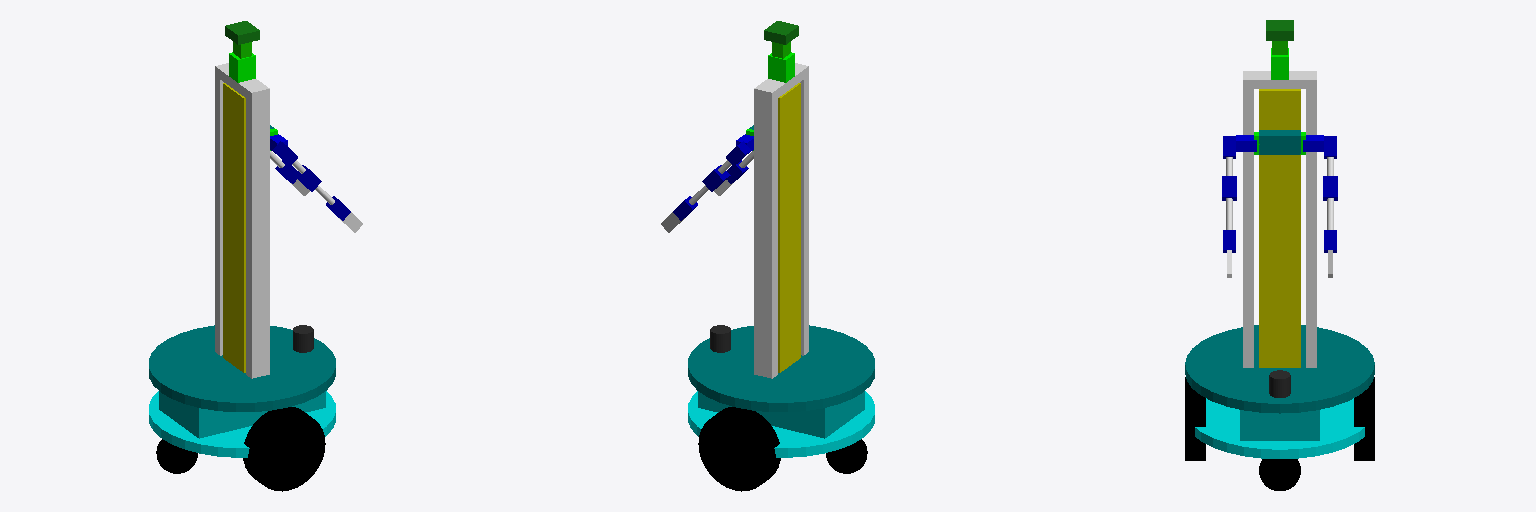
The robot description file, URDF, robot "morelab_robot_09":
<?xml version="1.0"?>

<robot name="morelab_robot_09">
<!-- * * * Link Definitions * * * -->

<link name="base_footprint" />
<!--link name="odom" /-->

<link name="base_link">
	<visual>
		<origin xyz="0 0 0.0125" rpy="0 0 0"/>
		<geometry>
			<cylinder radius="0.225" length="0.025"/>
		</geometry>
		<material name="Cyan1">
			<color rgba="0 0.9 0.9 1.0"/>
		</material>
	</visual>
</link>

<link name="front_wheel">
	<visual>
		<origin rpy="1.57075 1.57075 0" xyz="0.18 0 -0.05"/>
		<geometry>
			<sphere radius="0.05"/>
		</geometry>
		
		<material name="black">
			<color rgba="0 0 0 1"/>
		</material>
	</visual>
</link>

<link name="left_wheel">
	<visual>
		<origin rpy="1.57075 1.57075 0" xyz="0 0.2 0"/>
		<geometry>
			<cylinder length="0.05" radius="0.1"/>
		</geometry>
		
		<material name="black"/>
	</visual>
</link>

<link name="right_wheel">
	<visual>
		<origin rpy="1.57075 1.57075 0" xyz="0 -0.2 0"/>		
		<geometry>
			<cylinder length="0.05" radius="0.1"/>
		</geometry>
		
		<material name="black"/>
	</visual>
</link>

<link name="back_wheel">
	<visual>
		<origin rpy="1.57075 1.57075 0" xyz="-0.18 0 -0.05"/>
		<geometry>
			<sphere radius="0.05"/>
		</geometry>
		
		<material name="black"/>
	</visual>
</link>

<link name="cpu_link"><visual>
	<origin xyz="0 0 0.0475" rpy="0 0 0"/>
		<geometry>
			<box size="0.35 0.19 0.095"/>
		</geometry>
		<material name="Cyan2">
			<color rgba="0 0.7 0.7 1.0"/>
		</material>
	</visual>
</link>


<link name="upper_base_link">
	<visual>
		<origin xyz="0 0 0.0125" rpy="0 0 0"/>
		<geometry>
			<cylinder radius="0.225" length="0.025"/>
		</geometry>
		<material name="Cyan3">
			<color rgba="0 0.5 0.5 1.0"/>
		</material>
	</visual>
</link>

<!-- link name="base_imu"/ -->

<link name="base_imu">
  <inertial>
      <mass value="0.0001" />
      <origin xyz="0 0 0" />
      <inertia ixx="0.0001" ixy="0.0" ixz="0.0"
               iyy="0.0001" iyz="0.0" 
               izz="0.0001" />
  </inertial>
</link>

<link name="base_laser">
	<visual>
		<origin xyz="0 0 0.025" rpy="0 0 0"/>
		<geometry>
			<cylinder radius="0.025" length="0.05"/>
		</geometry>
		<material name="Black1">
			<color rgba="0.2 0.2 0.2 1.0"/>
		</material>
	</visual>
</link>


<link name="laser">
	
</link>


<link name="torso_link">
	<visual>
		<origin xyz="0 0 0.3625" rpy="0 0 0"/>
		<geometry>
			<box size="0.05 0.1 0.725"/>
		</geometry>
		<material name="Yellow2">
			<color rgba="0.8 0.8 0 1.0"/>
		</material>
	</visual>
</link>

<link name="top_torso_link">
	<visual>
		<origin xyz="0 0 -0.0125" rpy="0 0 0"/>
		<geometry>
			<box size="0.05 0.125 0.025"/>
		</geometry>
		<material name="Grey1">
			<color rgba="0.9 0.9 0.9 1.0"/>
		</material>
	</visual>
</link>

<link name="right_torso_link">
	<visual>
		<origin xyz="0 0 0.3775" rpy="0 0 0"/>
		<geometry>
			<box size="0.05 0.025 0.755"/>
		</geometry>
		<material name="Grey1">
			<color rgba="0.9 0.9 0.9 1.0"/>
		</material>
	</visual>
</link>

<link name="left_torso_link">
	<visual>
		<origin xyz="0 0 0.3775" rpy="0 0 0"/>
		<geometry>
			<box size="0.05 0.025 0.755"/>
		</geometry>
		<material name="Grey1">
			<color rgba="0.9 0.9 0.9 1.0"/>
		</material>
	</visual>
</link>


<link name="head_pan_link">
	<visual>
		<origin xyz="0 0 0.03" rpy="0 0 0"/>
		<geometry>
			<box size="0.05 0.045 0.06"/>
		</geometry>
		<material name="Green1">
			<color rgba="0 1 0 1.0"/>
		</material>
	</visual>
</link>

<link name="head_tilt_link">
	<visual>
		<origin xyz="0 0 0.0225" rpy="0 0 0"/>
		<geometry>
			<box size="0.03 0.038 0.045"/>
		</geometry>
		<material name="Green2">
			<color rgba="0.1 0.8 0 1.0"/>
		</material>
	</visual>
</link>

<link name="neck_link">
	<visual>
		<origin xyz="0 0 0.0125" rpy="0 0 0"/>
		<geometry>
			<box size="0.06 0.065 0.025"/>
		</geometry>
		<material name="Green3">
			<color rgba="0.1 0.5 0.1 1.0"/>
		</material>
	</visual>
</link>

<link name="head_link">
	<visual>
		<origin xyz="0.03 0 0.05" rpy="0 0 0"/>
		<geometry>
			<!--mesh filename="package://morelab_robot_description/meshes/person.dae"/-->
			<mesh filename="[local-path]/rosproject/src/morelab_robot_description/meshes/kinect.dae"/>  
		</geometry>
		<material name="Grey1">
			<color rgba="0.9 0.9 0.9 1.0"/>
		</material>
	</visual>
</link>

<!--link name="head_link">
	<visual>
		<origin xyz="0 0 0.05" rpy="0 0 0"/>
		<geometry>
			<box size="0.05 0.2 0.1"/>
		</geometry>
		<material name="Grey1">
			<color rgba="0.9 0.9 0.9 1.0"/>
		</material>
	</visual>
</link-->


<link name="camera_link">
  <inertial>
      <mass value="0.0001" />
      <origin xyz="0 0 0" />
      <inertia ixx="0.0001" ixy="0.0" ixz="0.0"
               iyy="0.0001" iyz="0.0" 
               izz="0.0001" />
  </inertial>
</link>

<!--	
	<link name="eyes_link">
		<visual>
			<origin xyz="0 0 0.035" rpy="0 0 0" />
			<geometry>
				<box size="0.01 0.04 0.01" />
			</geometry>
	     	<material name="Blue2">
				<color rgba="0 0 0.7 1.0"/>
			</material>
	   </visual>
	</link>
-->
<!--link name="antenna_link"><visual><origin xyz="0 0 0.035" rpy="0 0 0"/><geometry><cylinder radius="0.002" length="0.05"/></geometry><material name="Grey3"><color rgba="0.8 0.8 0.8 1.0"/></material></visual></link-->

<link name="shoulder_link">
	<visual>
		<origin xyz="0 0 0" rpy="0 0 0"/>
		<geometry>
			<box size="0.075 0.1 0.05"/>
		</geometry>
		<material name="Cyan3">
			<color rgba="0 0.5 0.5 1.0"/>
		</material>
	</visual>
</link>

<link name="left_shoulder_link">
	<visual>
		<origin xyz="0 0 0" rpy="0 0 0"/>
		<geometry>
			<box size="0.025 0.015 0.05"/>
		</geometry><material name="Green1">
			<color rgba="0 1 0 1.0"/>
		</material>
	</visual>
</link>

<link name="right_shoulder_link">
	<visual>
		<origin xyz="0 0 0" rpy="0 0 0"/>
		<geometry>
			<box size="0.025 0.015 0.05"/>
		</geometry>
		<material name="Green1">
			<color rgba="0 1 0 1.0"/>
		</material>
	</visual>
</link>

<link name="left_shoulder_forward_link"><visual><origin xyz="0 0 0" rpy="0 0 0"/><geometry><box size="0.03 0.05 0.03"/></geometry><material name="Blue1"><color rgba="0 0 0.9 1.0"/></material></visual></link>
<link name="right_shoulder_forward_link"><visual><origin xyz="0 0 0" rpy="0 0 0"/><geometry><box size="0.03 0.05 0.03"/></geometry><material name="Blue1"><color rgba="0 0 0.9 1.0"/></material></visual></link>
<link name="left_shoulder_up_link"><visual><origin xyz="0 0 0" rpy="1.57 0 0"/><geometry><box size="0.03 0.05 0.03"/></geometry><material name="Blue2"><color rgba="0 0 0.7 1.0"/></material></visual></link>
<link name="right_shoulder_up_link"><visual><origin xyz="0 0 0" rpy="1.57 0 0"/><geometry><box size="0.03 0.05 0.03"/></geometry><material name="Blue2"><color rgba="0 0 0.7 1.0"/></material></visual></link>
<link name="left_upper_arm_link"><visual><origin xyz="0 0 0" rpy="0 0 0"/><geometry><cylinder radius="0.0075" length="0.05"/></geometry><material name="Grey1"><color rgba="0.9 0.9 0.9 1.0"/></material></visual></link>
<link name="right_upper_arm_link"><visual><origin xyz="0 0 0" rpy="0 0 0"/><geometry><cylinder radius="0.0075" length="0.05"/></geometry><material name="Grey1"><color rgba="0.9 0.9 0.9 1.0"/></material></visual></link>
<link name="left_elbow_link"><visual><origin xyz="0 0 0" rpy="0 0 1.57"/><geometry><box size="0.035 0.035 0.05"/></geometry><material name="Blue2"><color rgba="0 0 0.7 1.0"/></material></visual></link>
<link name="right_elbow_link"><visual><origin xyz="0 0 0" rpy="0 0 1.57"/><geometry><box size="0.035 0.035 0.05"/></geometry><material name="Blue2"><color rgba="0 0 0.7 1.0"/></material></visual></link>
<link name="left_lower_arm_link"><visual><origin xyz="0 0 0" rpy="0 0 0"/><geometry><cylinder radius="0.0075" length="0.11"/></geometry><material name="Grey1"><color rgba="0.9 0.9 0.9 1.0"/></material></visual></link>
<link name="right_lower_arm_link"><visual><origin xyz="0 0 0" rpy="0 0 0"/><geometry><cylinder radius="0.0075" length="0.11"/></geometry><material name="Grey1"><color rgba="0.9 0.9 0.9 1.0"/></material></visual></link>
<link name="left_wrist_link"><visual><origin xyz="0 0 0" rpy="1.57 0 0"/><geometry><box size="0.03 0.05 0.03"/></geometry><material name="Blue2"><color rgba="0 0 0.7 1.0"/></material></visual></link>
<link name="right_wrist_link"><visual><origin xyz="0 0 0" rpy="1.57 0 0"/><geometry><box size="0.03 0.05 0.03"/></geometry><material name="Blue2"><color rgba="0 0 0.7 1.0"/></material></visual></link>
<link name="left_hand_link"><visual><origin xyz="0 0 0" rpy="0 0 0"/><geometry><box size="0.03 0.01 0.06"/></geometry><material name="Grey1"><color rgba="0.7 0.7 0.7 1.0"/></material></visual></link>
<link name="right_hand_link"><visual><origin xyz="0 0 0" rpy="0 0 0"/><geometry><box size="0.03 0.01 0.06"/></geometry><material name="Grey1"><color rgba="0.9 0.9 0.9 1.0"/></material></visual></link>
<!-- * * * Joint Definitions * * * -->
<!--
<joint name="map_odom_to_base" type="fixed">
	<parent link="odom"/>
	<child link="base_link"/>
	<origin xyz="0 0 0.1"/>
</joint>

<joint name="base_footprint_to_odom" type="continuous">
	<parent link="base_footprint"/>
	<child link="odom"/>
	<origin xyz="0 0 0"/>
        <axis xyz="1 1 0 "/>
	<limit effort="100" velocity="100"/>
	<dynamics damping="0.0" friction="0.0"/>

</joint>
-->

<joint name="base_footprint_joint" type="fixed">
	<parent link="base_footprint"/>
	<child link="base_link"/>
	<origin xyz="0 0 0.1"/>
</joint>

<joint name="base_to_front_wheel" type="fixed">
	<parent link="base_link"/>
	<child link="front_wheel"/>
	<origin xyz="0 0 0"/>
</joint>

<joint name="base_to_left_wheel" type="fixed">
	<parent link="base_link"/>
	<child link="left_wheel"/>
	<origin xyz="0 0 0"/>
	
</joint>

<joint name="base_to_right_wheel" type="fixed">
	<parent link="base_link"/>
	<child link="right_wheel"/>
	<origin xyz="0 0 0"/>
	
</joint>

<joint name="base_to_back_wheel" type="fixed">
	<parent link="base_link"/>
	<child link="back_wheel"/>
	<origin xyz="0 0 0"/>

</joint>

<joint name="cpu_joint" type="fixed">
	<parent link="base_link"/>
	<child link="cpu_link"/>
	<origin xyz="0 0 0.025" rpy="0 0 0"/>
</joint>

<joint name="upper_base_joint" type="fixed">
	<parent link="cpu_link"/>
	<child link="upper_base_link"/>
	<origin xyz="0 0 0.095" rpy="0 0 0"/>
</joint>

<joint name="base_laser_joint" type="fixed">
	<parent link="upper_base_link"/>
	<child link="base_laser"/>
	<origin xyz="0.168 0 0.025" rpy="0 0 0"/>
</joint>

<joint name="laser_joint" type="fixed">
  	<parent link="base_laser" />
  	<child link="laser" />
	<origin xyz="0 0 0.1" rpy="0 0 0" />
</joint>

<joint name="base_imu_joint" type="fixed">
	<parent link="upper_base_link"/>
	<child link="base_imu"/>
	<origin xyz="0.095 0 0.025" rpy="0 0 0"/>
</joint>

<joint name="torso_joint" type="fixed">
	<parent link="upper_base_link"/>
	<child link="torso_link"/>
	<origin xyz="0 0 0.025" rpy="0 0 0"/>
	
</joint>

<joint name="top_torso_joint" type="fixed">
	<parent link="torso_link"/>
	<child link="top_torso_link"/>
	<origin xyz="0 0 0.755" rpy="0 0 0"/>
	
</joint>

<joint name="right_torso_joint" type="fixed">
	<parent link="upper_base_link"/>
	<child link="right_torso_link"/>
	<origin xyz="0 -0.075 0.025" rpy="0 0 0"/>
</joint>

<joint name="left_torso_joint" type="fixed">
	<parent link="upper_base_link"/>
	<child link="left_torso_link"/>
	<origin xyz="0 0.075 0.025" rpy="0 0 0"/>
</joint>


<joint name="head_pan_servo" type="fixed">
	<parent link="top_torso_link"/>
	<child link="head_pan_link"/>
	<origin xyz="0 0 0" rpy="0 0 0"/>
</joint>

<joint name="head_pan_joint" type="fixed">
	<parent link="head_pan_link"/>
	<child link="head_tilt_link"/>
	<origin xyz="0 0 0.06" rpy="0 0 0"/>
	
</joint>

<joint name="head_tilt_joint" type="fixed">
	<parent link="head_tilt_link"/>
	<child link="neck_link"/>
	<origin xyz="0 0 0.045" rpy="0 0 0"/>
	
</joint>

<joint name="neck_joint" type="fixed">
	<parent link="neck_link"/>
	<child link="head_link"/>
	<origin xyz="0 0 0.025" rpy="0 0 0"/>
</joint>

<joint name="camera_joint" type="fixed">
  	<origin xyz="0 0 0.065" rpy="0 0 0" />
  	<parent link="head_link" />
  	<child link="camera_link" />
</joint>

<!--joint name="neck_joint" type="fixed">
	<parent link="neck_link"/>
	<child link="head_link"/>
	<origin xyz="0 0 0.025" rpy="0 0 0"/>
</joint-->

<!--<joint name="eyes_joint" type="fixed"><parent link="head_link" /><child link="eyes_link" /><origin xyz="0.02 0 0.03" rpy="0 0 0" />
	</joint>
-->
<!--joint name="antenna_joint" type="fixed"><parent link="head_link"/><child link="antenna_link"/><origin xyz="0.0 -0.025 0.065" rpy="0 0 0"/></joint -->

<!--joint name="shoulder_joint" type="prismatic">
	<parent link="upper_base_link"/>
	<child link="shoulder_link"/>
	<axis xyz="0 0 1"/>	
	<limit effort="1000.0" lower="-0.5" upper="0.1" velocity="0.5"/>
	<origin xyz="0.025 0 0.6" rpy="0 0 0"/>
	
</joint-->

<joint name="shoulder_joint" type="fixed">
	<parent link="torso_link"/>
	<child link="shoulder_link"/>
	<origin xyz="0.025 0 0.6" rpy="0 0 0"/>
	
</joint>


<joint name="left_shoulder_joint" type="fixed">
	<parent link="shoulder_link"/>
	<child link="left_shoulder_link"/>
	<origin xyz="0.025 0.055 0" rpy="0 0 0"/>
</joint>

<joint name="right_shoulder_joint" type="fixed">
	<parent link="shoulder_link"/>
	<child link="right_shoulder_link"/>
	<origin xyz="0.025 -0.055 0" rpy="0 0 0"/>
</joint>

<joint name="left_shoulder_forward_joint" type="fixed"><parent link="left_shoulder_link"/><child link="left_shoulder_forward_link"/><origin xyz="0 0.025 0" rpy="0 0 0"/></joint>
<joint name="right_shoulder_forward_joint" type="fixed"><parent link="right_shoulder_link"/><child link="right_shoulder_forward_link"/><origin xyz="0 -0.025 0" rpy="0 0 0"/></joint>
<joint name="left_shoulder_up_joint" type="fixed"><parent link="left_shoulder_forward_link"/><child link="left_shoulder_up_link"/><origin xyz="0 0.04 -0.01" rpy="0 -0.707 0"/></joint>
<joint name="right_shoulder_up_joint" type="fixed"><parent link="right_shoulder_forward_link"/><child link="right_shoulder_up_link"/><origin xyz="0 -0.04 -0.01" rpy="0 -0.707 0"/></joint>
<joint name="left_upper_arm_joint" type="fixed"><parent link="left_shoulder_up_link"/><child link="left_upper_arm_link"/><origin xyz="0 0 -0.05" rpy="0 0 0"/></joint>
<joint name="right_upper_arm_joint" type="fixed"><parent link="right_shoulder_up_link"/><child link="right_upper_arm_link"/><origin xyz="0 0 -0.05" rpy="0 0 0"/></joint>
<joint name="left_elbow_joint" type="fixed"><parent link="left_upper_arm_link"/><child link="left_elbow_link"/><origin xyz="-0.005 0 -0.05" rpy="0 0 0"/></joint>
<joint name="right_elbow_joint" type="fixed"><parent link="right_upper_arm_link"/><child link="right_elbow_link"/><origin xyz="-0.005 0 -0.05" rpy="0 0 0"/></joint>
<joint name="left_lower_arm_joint" type="fixed"><parent link="left_elbow_link"/><child link="left_lower_arm_link"/><origin xyz="0 0 -0.08" rpy="0 0 0"/></joint>
<joint name="right_lower_arm_joint" type="fixed"><parent link="right_elbow_link"/><child link="right_lower_arm_link"/><origin xyz="0 0 -0.08" rpy="0 0 0"/></joint>
<joint name="left_wrist_joint" type="fixed"><parent link="left_lower_arm_link"/><child link="left_wrist_link"/><origin xyz="0 0 -0.05" rpy="0 0 0"/></joint>
<joint name="right_wrist_joint" type="fixed"><parent link="right_lower_arm_link"/><child link="right_wrist_link"/><origin xyz="0 0 -0.05" rpy="0 0 0"/></joint>
<joint name="left_hand_joint" type="fixed"><parent link="left_wrist_link"/><child link="left_hand_link"/><origin xyz="0 0 -0.055" rpy="0 0 0"/></joint>
<joint name="right_hand_joint" type="fixed"><parent link="right_wrist_link"/><child link="right_hand_link"/><origin xyz="0 0 -0.055" rpy="0 0 0"/></joint>

</robot>

--- Facts derived from the render (not from the file) ---
The picture shows the robot from 3 angles, left to right: view 1: azimuth 30°, elevation 25°; view 2: azimuth 150°, elevation 25°; view 3: azimuth 270°, elevation 25°; orthographic projection.
Robot: morelab_robot_09 — 37 links, 36 joints (36 fixed); root link base_footprint; default pose: all joints at 0.
Links seen in each view (by area): view 1: upper_base_link, right_torso_link, torso_link, right_wheel, base_link, cpu_link, left_torso_link, back_wheel, head_pan_link, neck_link, base_laser; view 2: upper_base_link, left_torso_link, torso_link, left_wheel, base_link, cpu_link, right_torso_link, back_wheel, head_pan_link, neck_link, base_laser; view 3: torso_link, upper_base_link, base_link, right_torso_link, left_torso_link, cpu_link, left_wheel, right_wheel, front_wheel, shoulder_link, top_torso_link, neck_link (+1 smaller).
Link boxes in pixels (bbox=[...]): upper_base_link: bbox=[149, 325, 335, 411]; right_torso_link: bbox=[246, 85, 269, 378]; torso_link: bbox=[223, 83, 245, 372]; right_wheel: bbox=[243, 407, 325, 491]; base_link: bbox=[149, 391, 335, 457]; cpu_link: bbox=[159, 391, 325, 438]; left_torso_link: bbox=[215, 63, 228, 355]; back_wheel: bbox=[156, 439, 197, 473]; head_pan_link: bbox=[229, 52, 255, 82]; neck_link: bbox=[225, 21, 259, 44]; base_laser: bbox=[293, 325, 313, 352]; upper_base_link: bbox=[688, 325, 874, 411]; left_torso_link: bbox=[754, 85, 777, 378]; torso_link: bbox=[778, 83, 800, 372]; left_wheel: bbox=[698, 407, 780, 491]; base_link: bbox=[688, 391, 874, 457]; cpu_link: bbox=[698, 391, 864, 438]; right_torso_link: bbox=[795, 63, 808, 355]; back_wheel: bbox=[826, 439, 867, 473]; head_pan_link: bbox=[768, 52, 794, 82]; neck_link: bbox=[764, 21, 798, 44]; base_laser: bbox=[710, 325, 730, 352]; torso_link: bbox=[1259, 89, 1300, 367]; upper_base_link: bbox=[1185, 325, 1374, 413]; base_link: bbox=[1195, 398, 1364, 458]; right_torso_link: bbox=[1243, 71, 1253, 367]; left_torso_link: bbox=[1306, 71, 1316, 367]; cpu_link: bbox=[1240, 410, 1319, 440]; left_wheel: bbox=[1354, 377, 1374, 460]; right_wheel: bbox=[1185, 377, 1205, 460]; front_wheel: bbox=[1259, 459, 1300, 490]; shoulder_link: bbox=[1259, 130, 1300, 154]; top_torso_link: bbox=[1254, 71, 1305, 88]; neck_link: bbox=[1266, 20, 1293, 40].
Size in the robot's own frame: 0.4922 by 0.45 by 1.13 metres.
Geometry: only primitive shapes (box / cylinder / sphere) drawn; not drawn: 1 mesh visual (reference in a form the renderer does not follow).